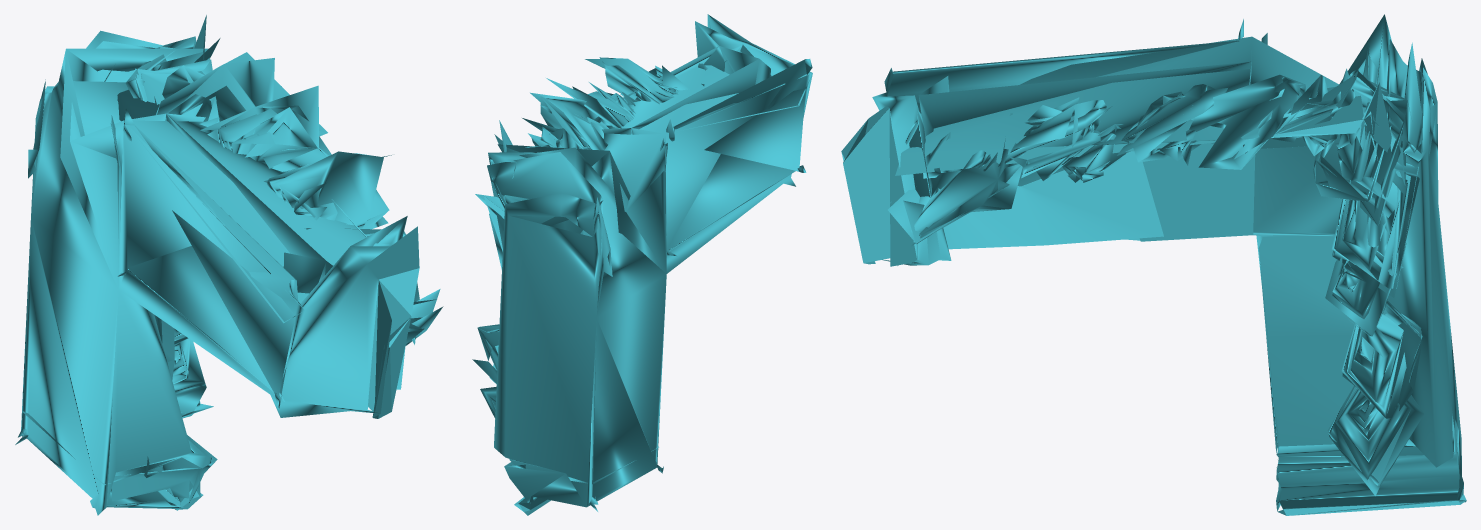
The picture shows the model from 3 angles, left to right: view 1: azimuth 30°, elevation 25°; view 2: azimuth 150°, elevation 25°; view 3: azimuth 270°, elevation 25°; orthographic projection. The views are drawn at different scales.
Parts seen in each view (by area): view 1: Renderer Node; view 2: Renderer Node; view 3: Renderer Node.
Part boxes in pixels (<box>): Renderer Node: <box>15,15,443,515</box>; Renderer Node: <box>472,14,812,515</box>; Renderer Node: <box>841,14,1466,515</box>.
Bounding box in the file's own units: 0.3017 × 0.6367 × 0.7734.
Materials: 1 (1 with a texture image).
